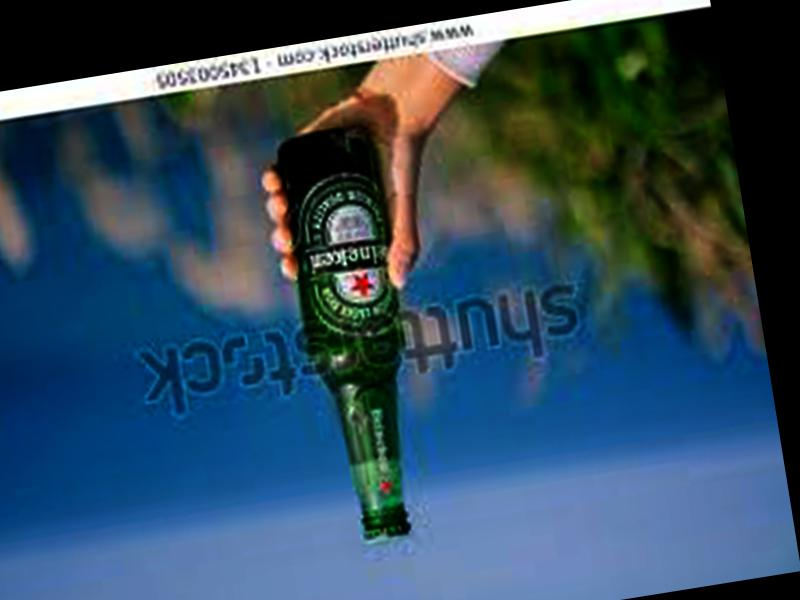Beer: (276, 127, 440, 547)
